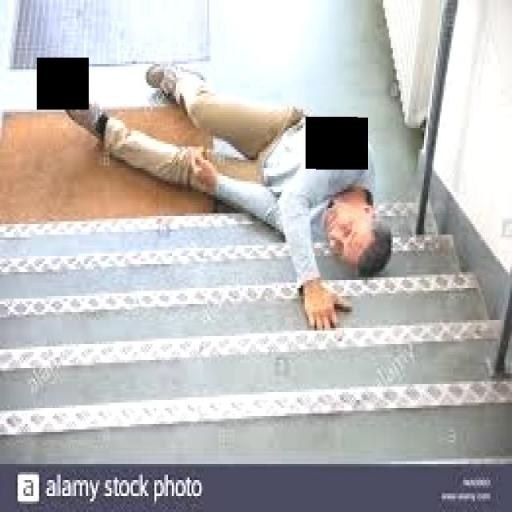Fall: (60, 61, 391, 329)
